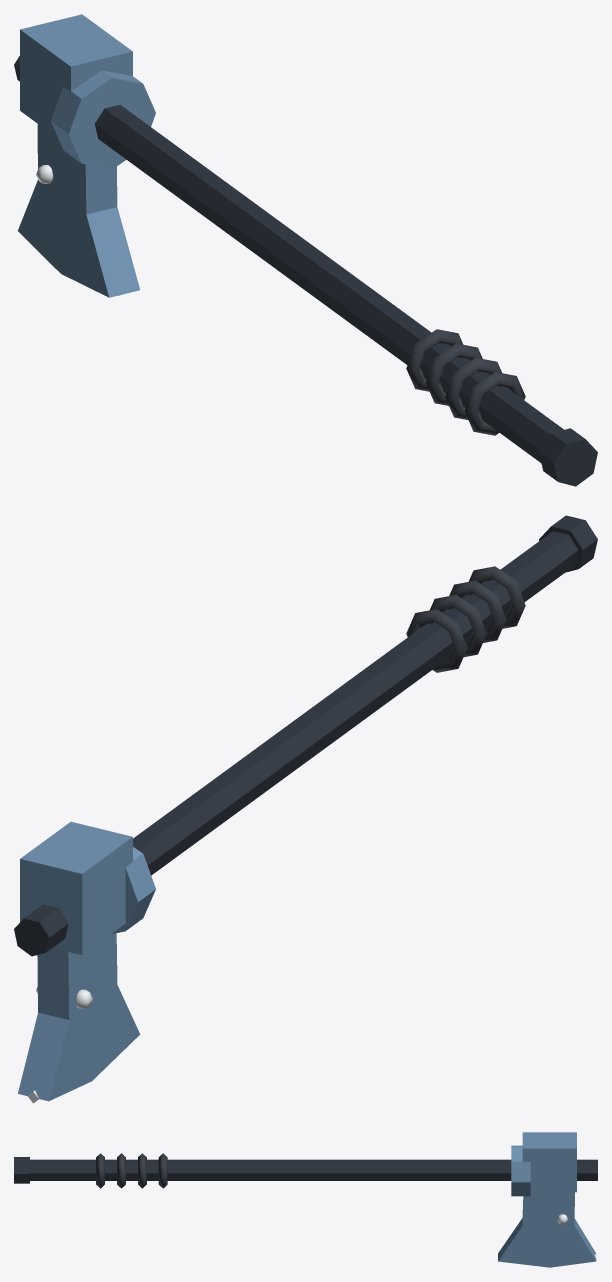
Rendered from Tool_Axe_Titanium.fbx.
The picture shows the model from 3 angles, top to bottom: view 1: azimuth 30°, elevation 25°; view 2: azimuth 150°, elevation 25°; view 3: azimuth 270°, elevation 25°; orthographic projection. The views are drawn at different scales.
Parts seen in each view (by area): view 1: Tool_Axe_Titanium; view 2: Tool_Axe_Titanium; view 3: Tool_Axe_Titanium.
Boxes of the visible parts, x1,y1,x2,y2 form: Tool_Axe_Titanium: (14, 14, 597, 486); Tool_Axe_Titanium: (14, 515, 597, 1103); Tool_Axe_Titanium: (14, 1132, 597, 1267).
Size of the model in its own units: 0.0338 by 0.0848 by 0.364.
